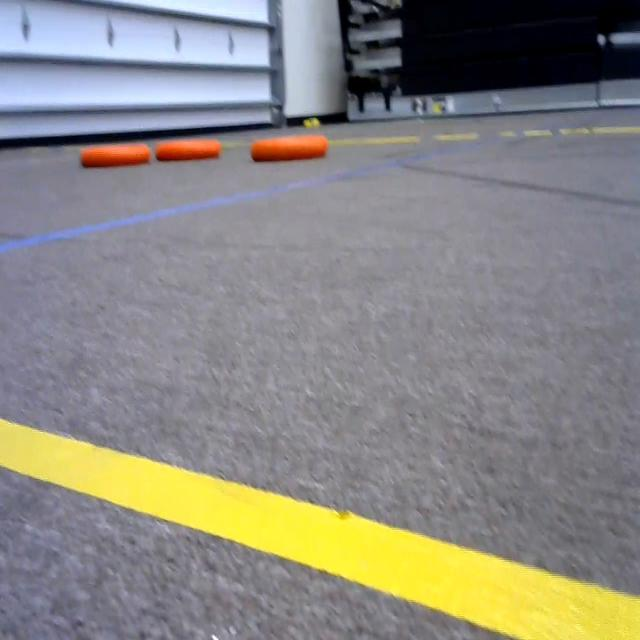note: (243, 126, 334, 165), (76, 131, 152, 173), (152, 129, 227, 168)
